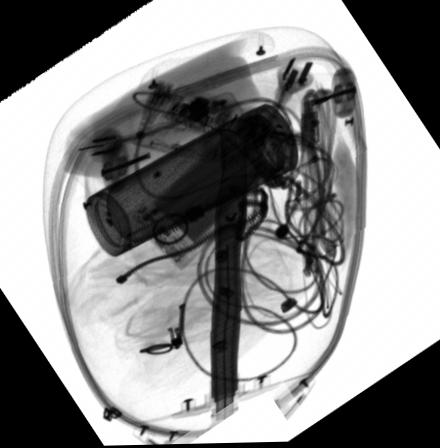Powerbank: (127, 116, 282, 270)
